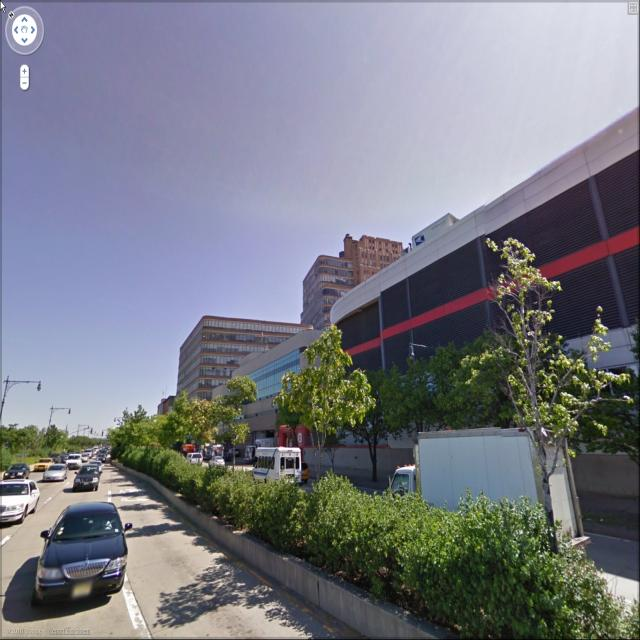b_1: (167, 309, 318, 406), (298, 216, 416, 328)
